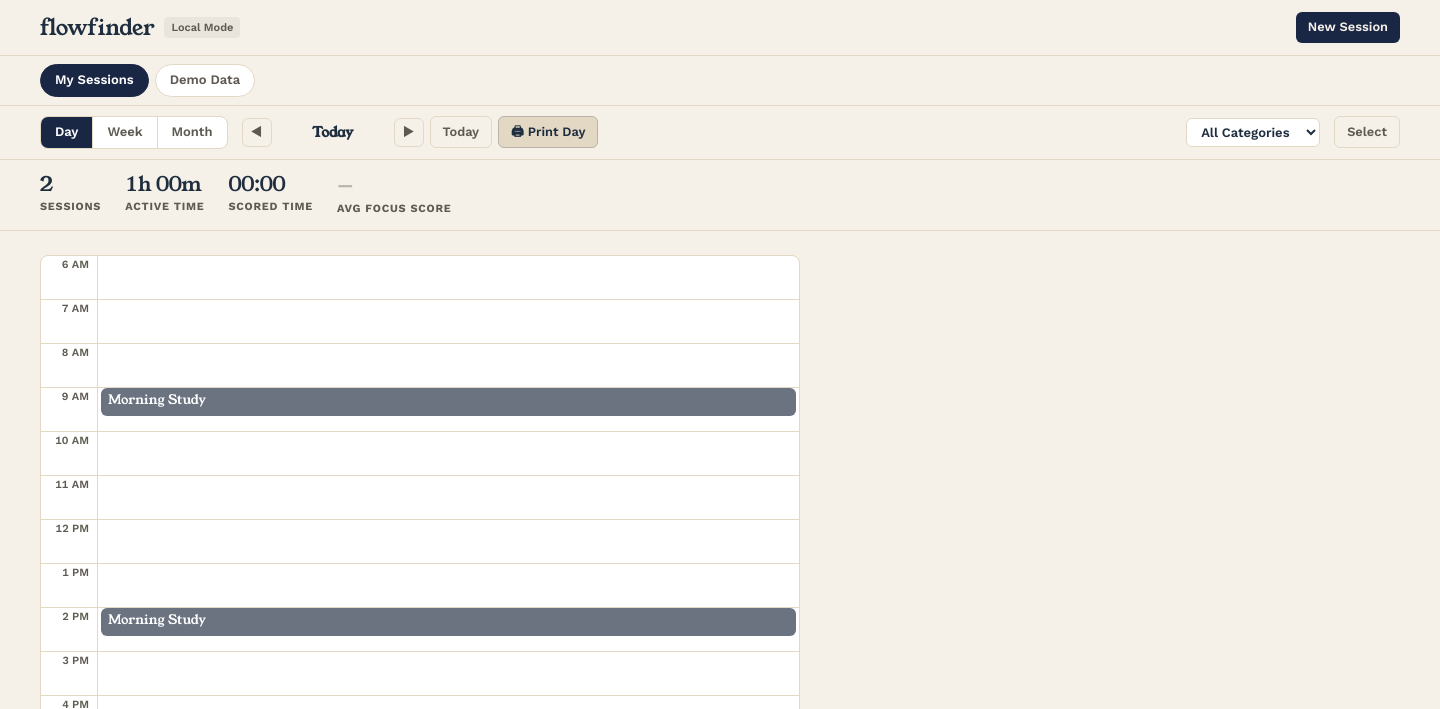
Test: Dashboard time-grid › month view shows one dot per session on the same day
This screenshot has width=1440, height=709.
Click the button "Month".
click(192, 132)  # box [158,117,226,148]
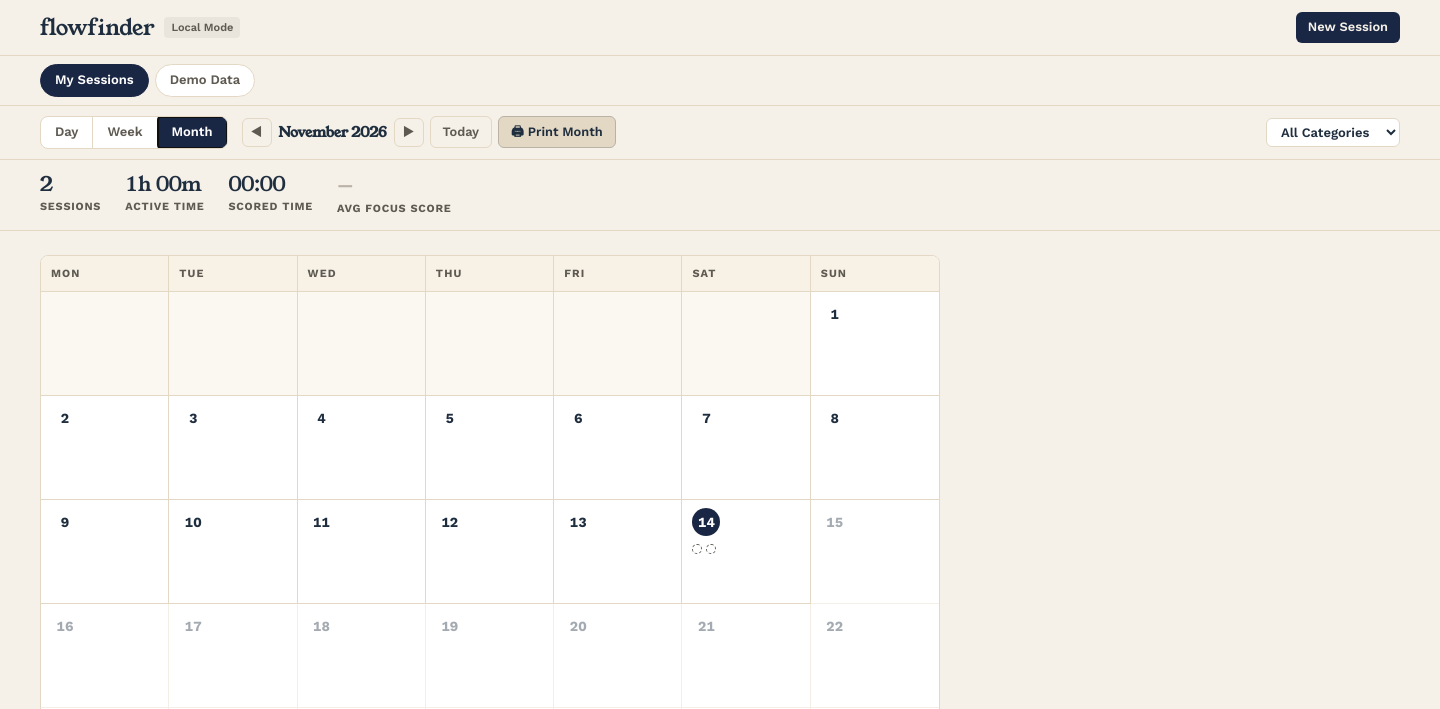
expect the button named "2 sessions" is shown: met, box [682,500,811,604]
